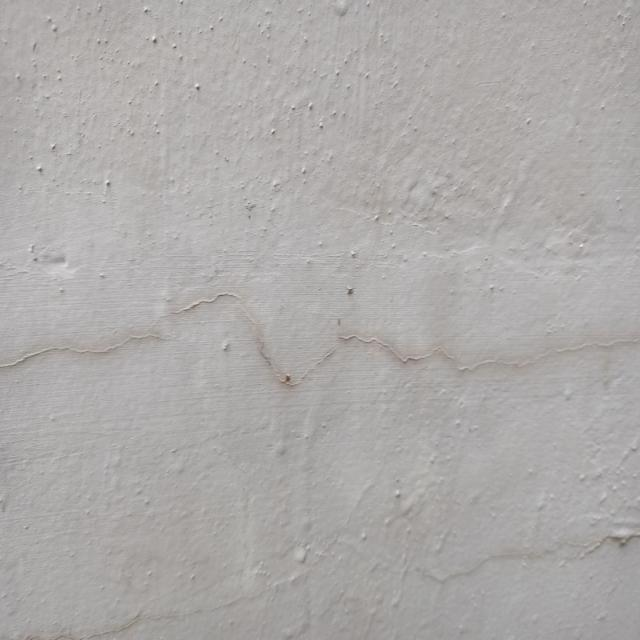SurfaceCrack: (0, 266, 639, 419)
